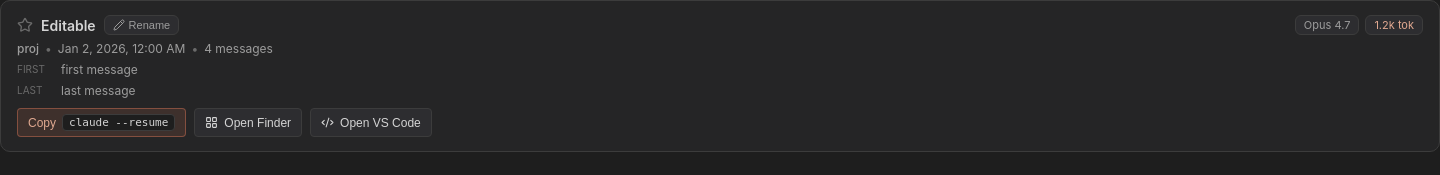
Test: SessionCard › enters edit mode when the title is clicked
What coordinates should you click on to do the following:
click the text "Editable"
I would click on:
 (68, 25)
Its box is [41,16,96,34].
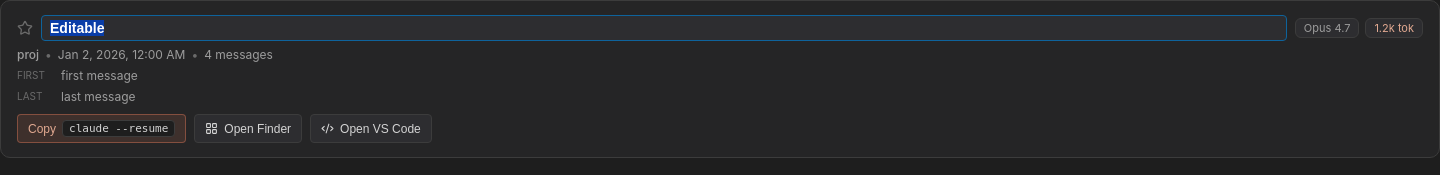
Expected: the field holds "Editable", [41,15,1287,41]
